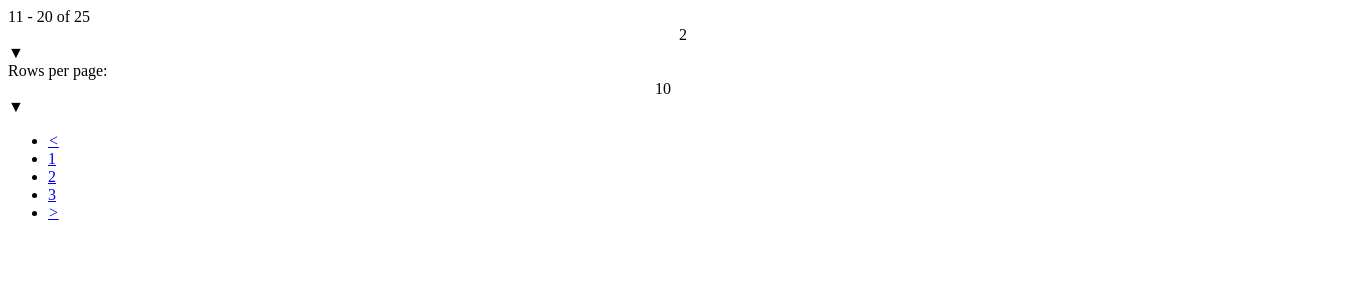
Test: GridFooter Component › renders pager select with correct values
Step 1. Click the button "2 ▼" → (683, 34), box [8, 26, 687, 61]
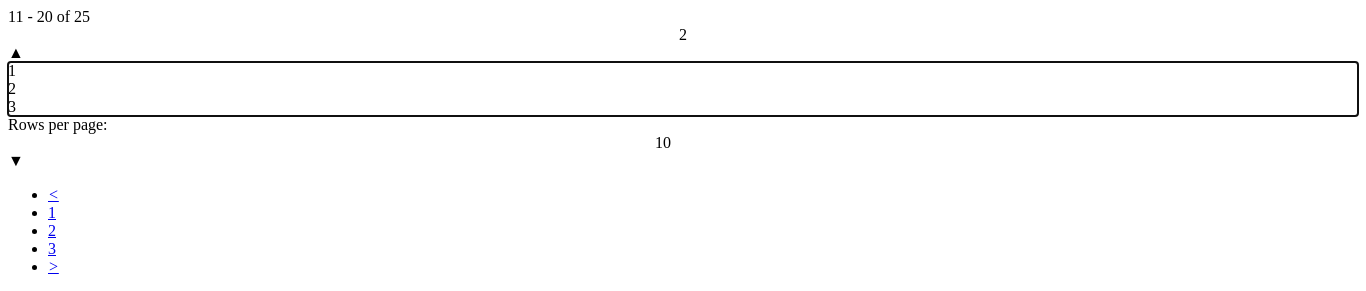
Now the number of options "1" is 3, box [8, 62, 16, 79]; [8, 80, 16, 97]; [8, 98, 16, 115]
Now the option "1" is shown, box [8, 62, 16, 79]
